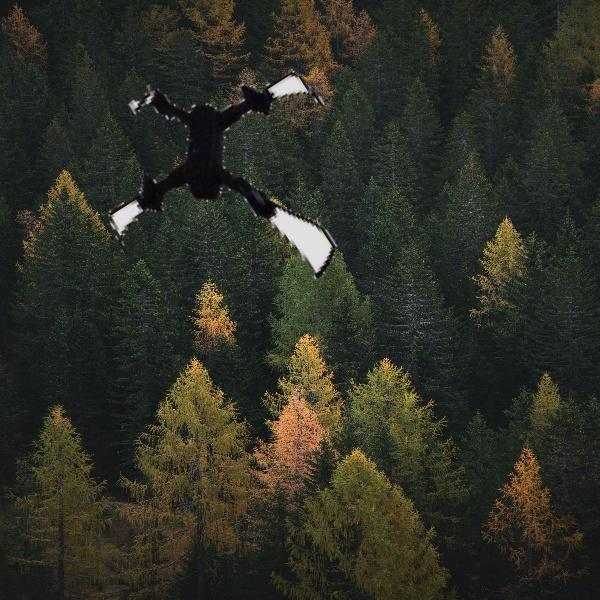drone: (93, 46, 368, 321)
